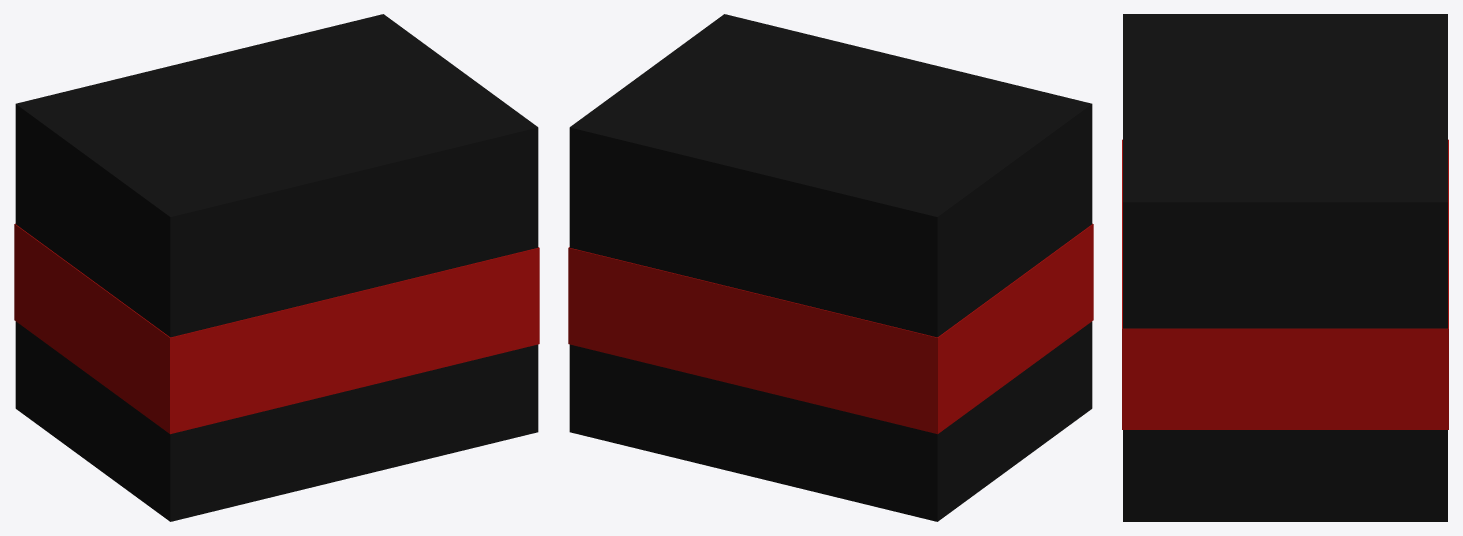
File: car_battery.glb
3 renders of one model, left to right at view 1: azimuth 30°, elevation 25°; view 2: azimuth 150°, elevation 25°; view 3: azimuth 270°, elevation 25°, orthographic. The views are drawn at different scales.
Visible parts, largest first — view 1: body:carton; view 2: body:carton; view 3: body:carton.
Part boxes in pixels (x1=…): body:carton: x1=14, y1=14, x2=539, y2=521; body:carton: x1=568, y1=14, x2=1093, y2=521; body:carton: x1=1122, y1=14, x2=1448, y2=521.
Size of the model in its own units: 0.241 by 0.19 by 0.176.
